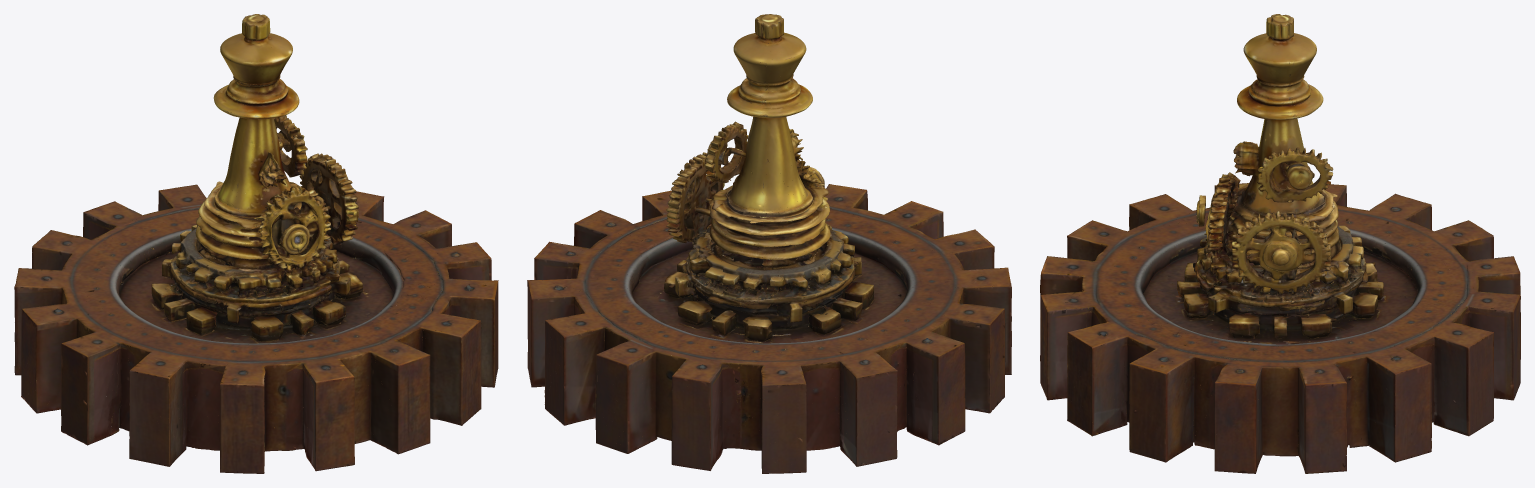
Rendered from pawn.glb.
The picture shows the model from 3 angles, left to right: view 1: azimuth 30°, elevation 25°; view 2: azimuth 150°, elevation 25°; view 3: azimuth 270°, elevation 25°; orthographic projection.
Parts seen in each view (by area): view 1: Object_4, Object_5, Object_6, Object_7; view 2: Object_4, Object_5, Object_6, Object_7; view 3: Object_4, Object_5, Object_6, Object_7.
Boxes of the visible parts, left/top/right/bottom form: Object_4: left=15, top=33, right=494, bottom=473; Object_5: left=14, top=14, right=498, bottom=469; Object_6: left=14, top=14, right=498, bottom=473; Object_7: left=14, top=15, right=497, bottom=464; Object_4: left=527, top=32, right=1011, bottom=473; Object_5: left=527, top=14, right=1011, bottom=470; Object_6: left=527, top=14, right=1011, bottom=469; Object_7: left=529, top=14, right=1007, bottom=472; Object_4: left=1040, top=33, right=1520, bottom=473; Object_5: left=1040, top=14, right=1520, bottom=473; Object_6: left=1040, top=16, right=1520, bottom=472; Object_7: left=1040, top=20, right=1517, bottom=472.
Bounding box in the file's own units: 2 × 1.63 × 2.
1 material, 1 textured.
